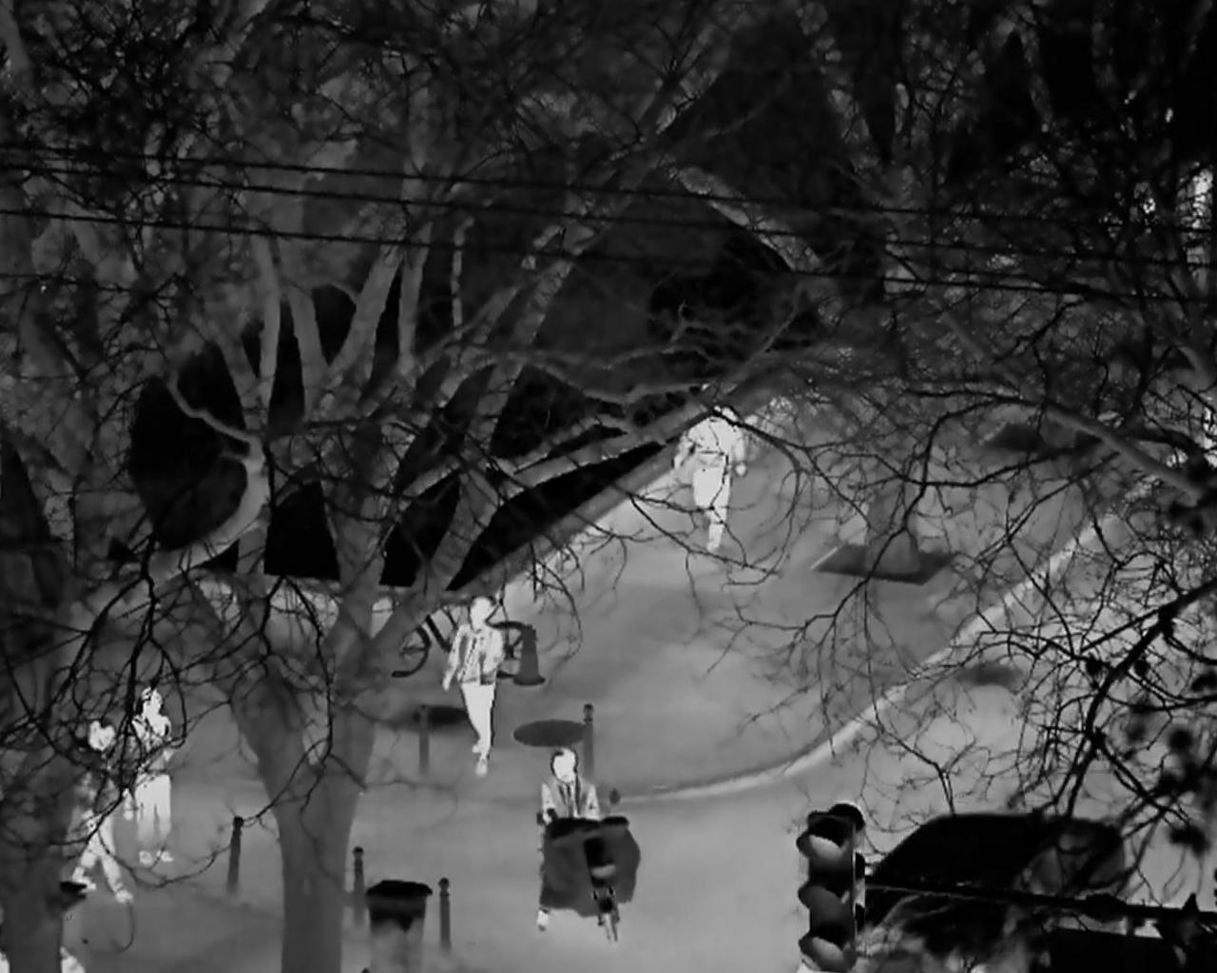person: (441, 594, 506, 774), (71, 720, 133, 905), (671, 406, 747, 556), (125, 688, 176, 867), (534, 747, 599, 825)
